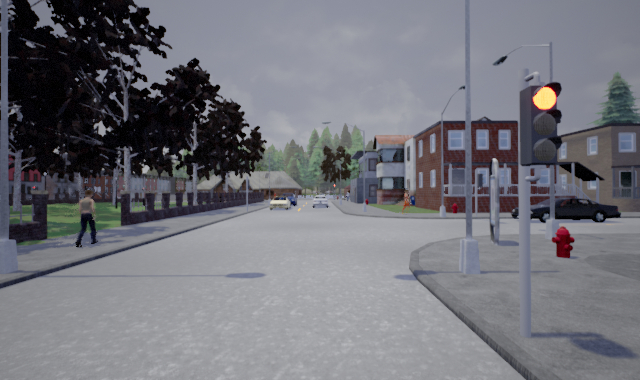pedestrian: (73, 188, 98, 248), (399, 188, 410, 214)
traffic_light: (519, 82, 563, 167)
vehicle: (511, 197, 621, 224), (269, 197, 291, 211), (313, 194, 330, 209)
